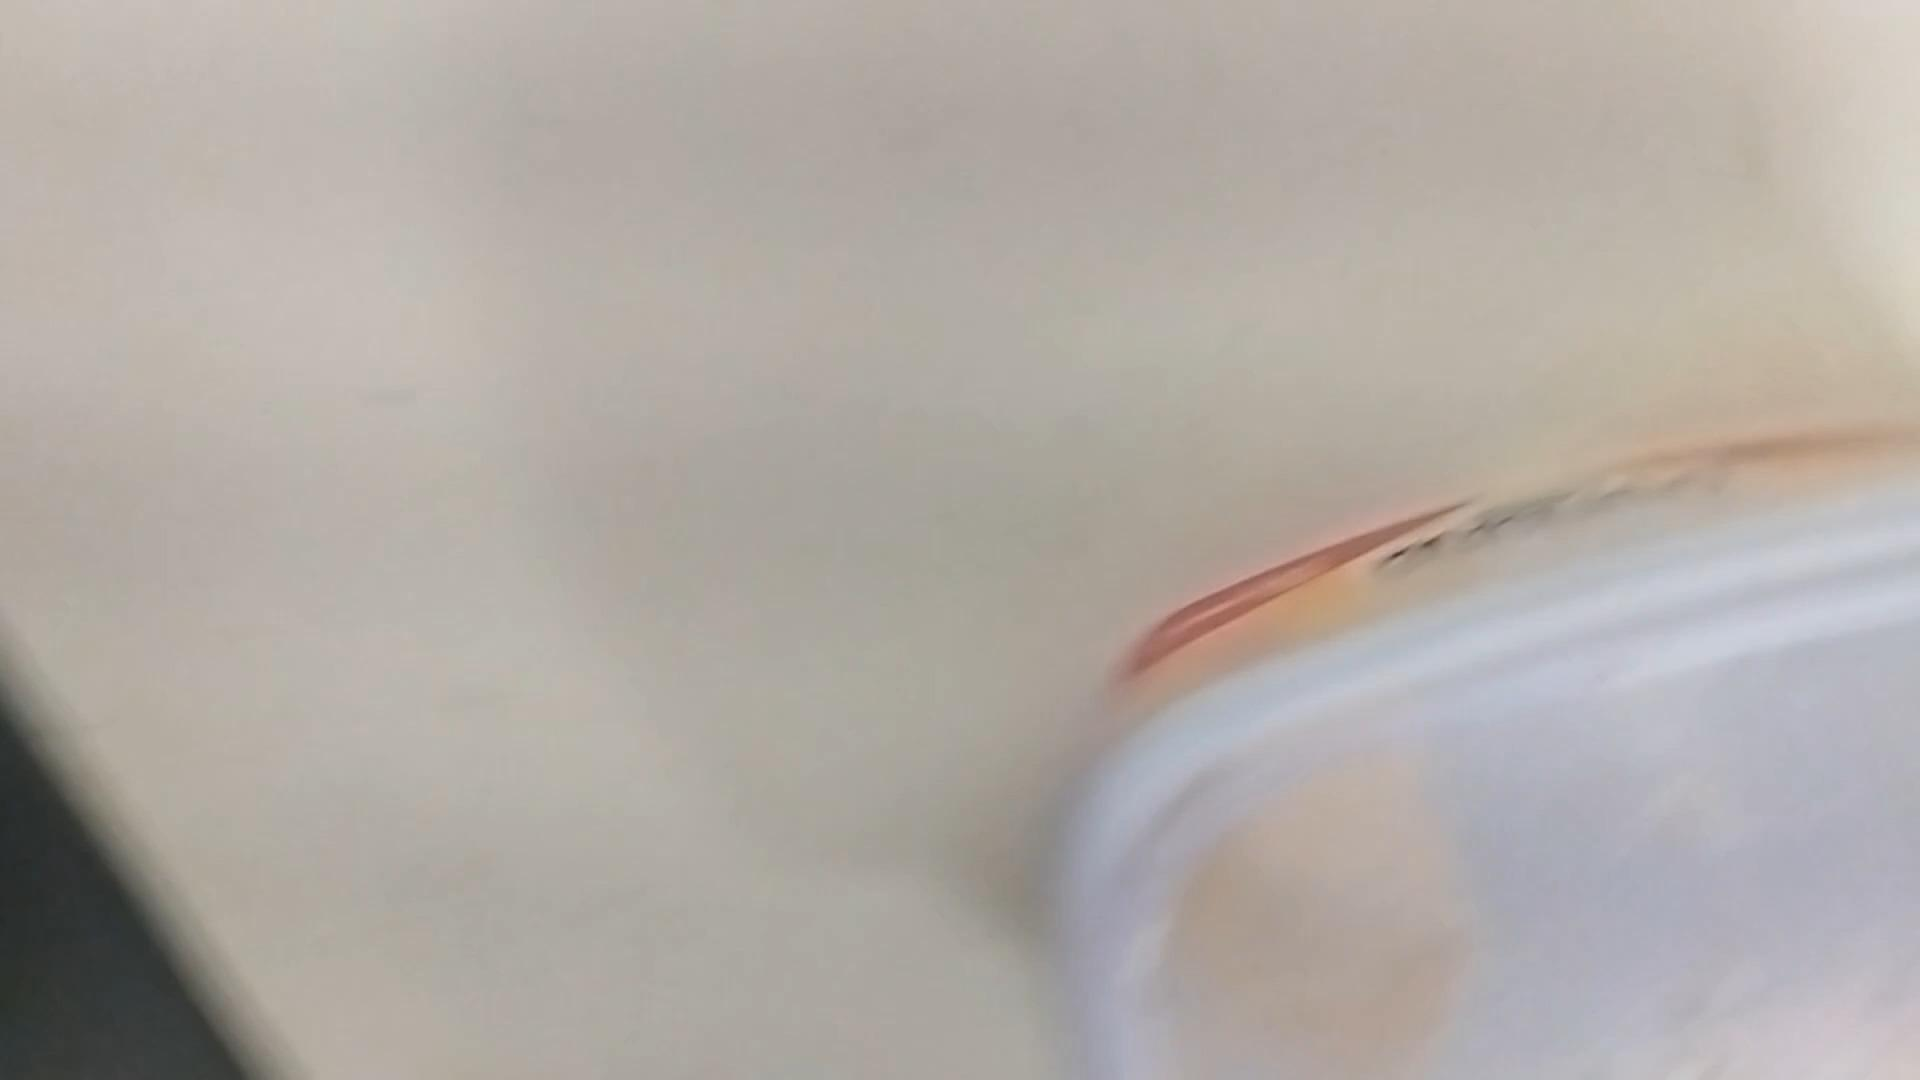butter: (1054, 439, 1916, 1076)
